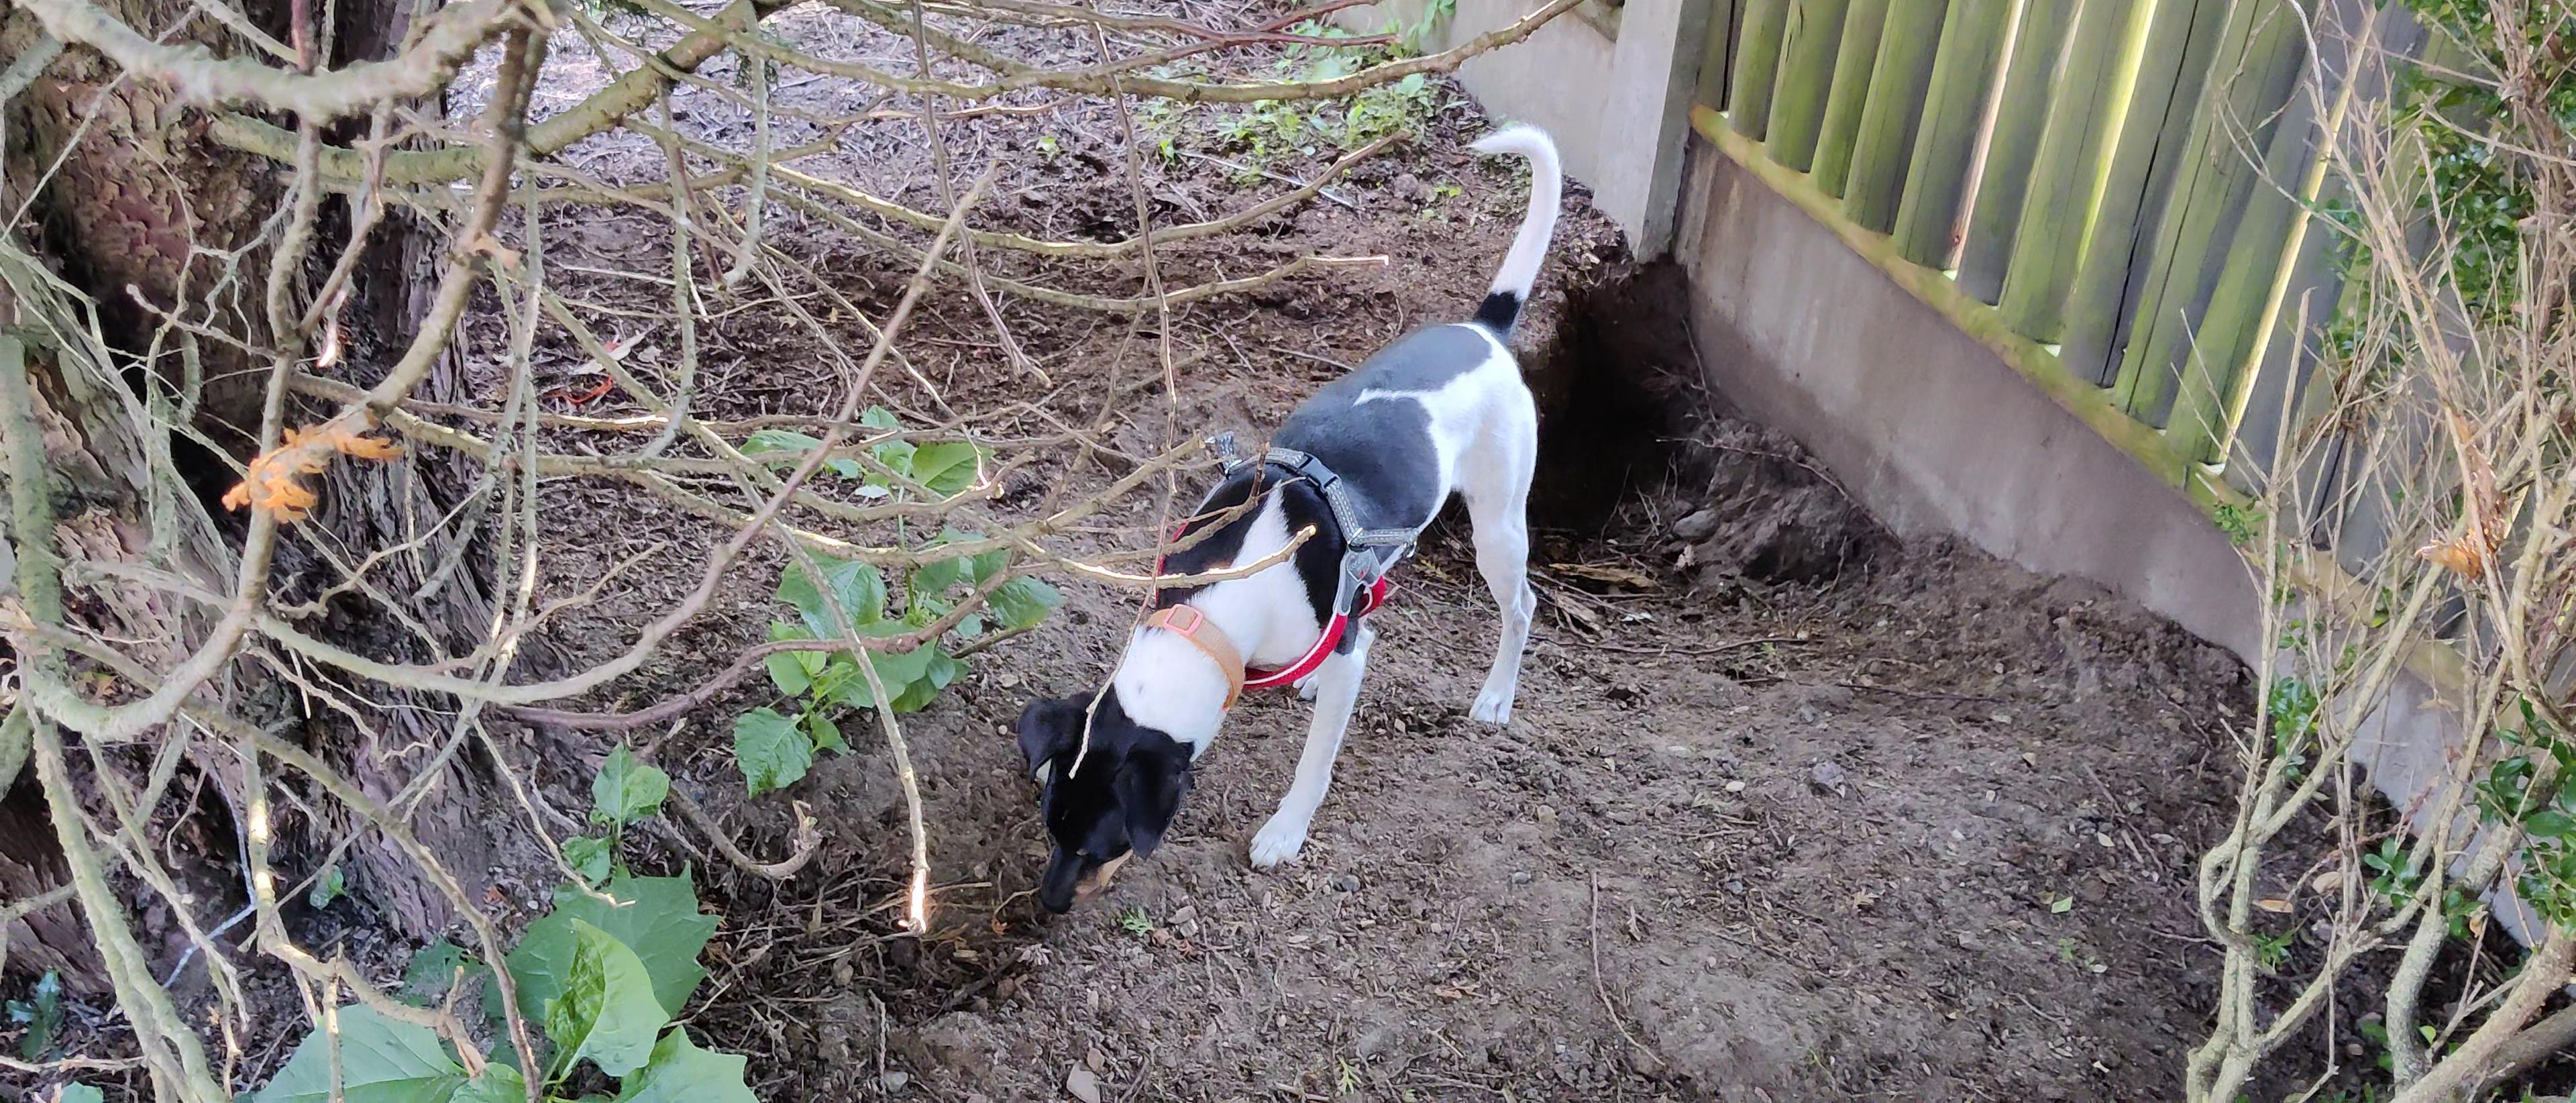Dog: (1009, 112, 1566, 927)
